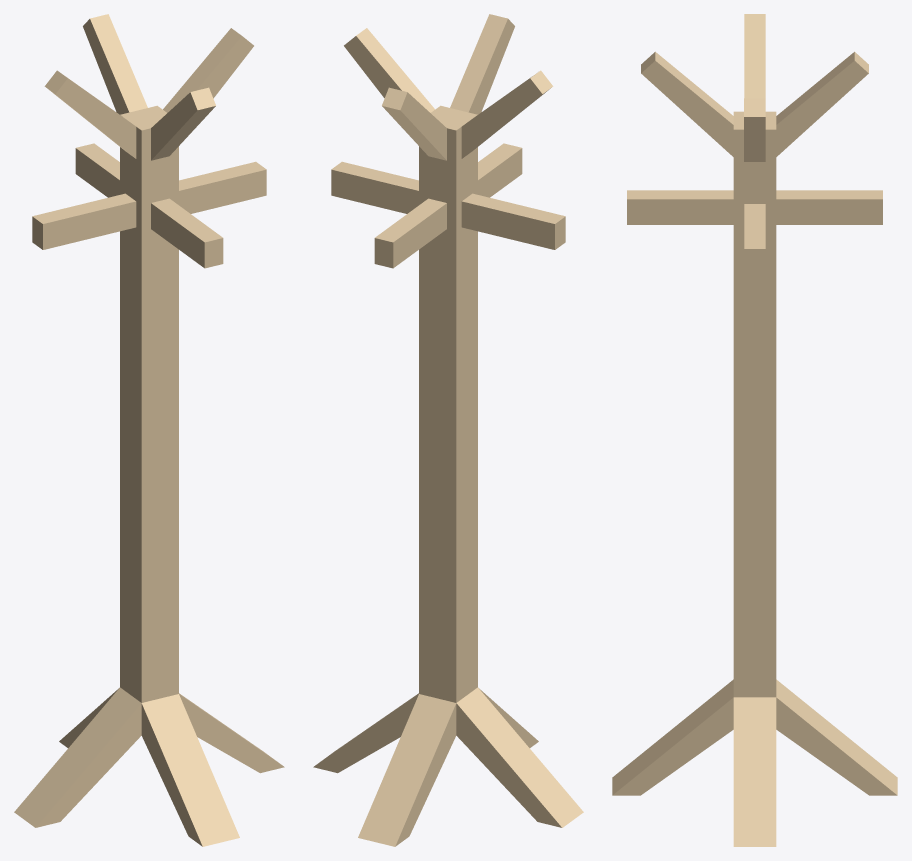
File: coatRackStanding.glb
3 renders of one model, left to right at view 1: azimuth 30°, elevation 25°; view 2: azimuth 150°, elevation 25°; view 3: azimuth 270°, elevation 25°, orthographic.
Visible parts, largest first — view 1: coatRackStanding; view 2: coatRackStanding; view 3: coatRackStanding.
Part boxes in pixels (<box>): coatRackStanding: <box>14,14,284,846</box>; coatRackStanding: <box>313,14,583,846</box>; coatRackStanding: <box>612,14,897,846</box>.
Size of the model in its own units: 2.73 by 7.7 by 2.73.
